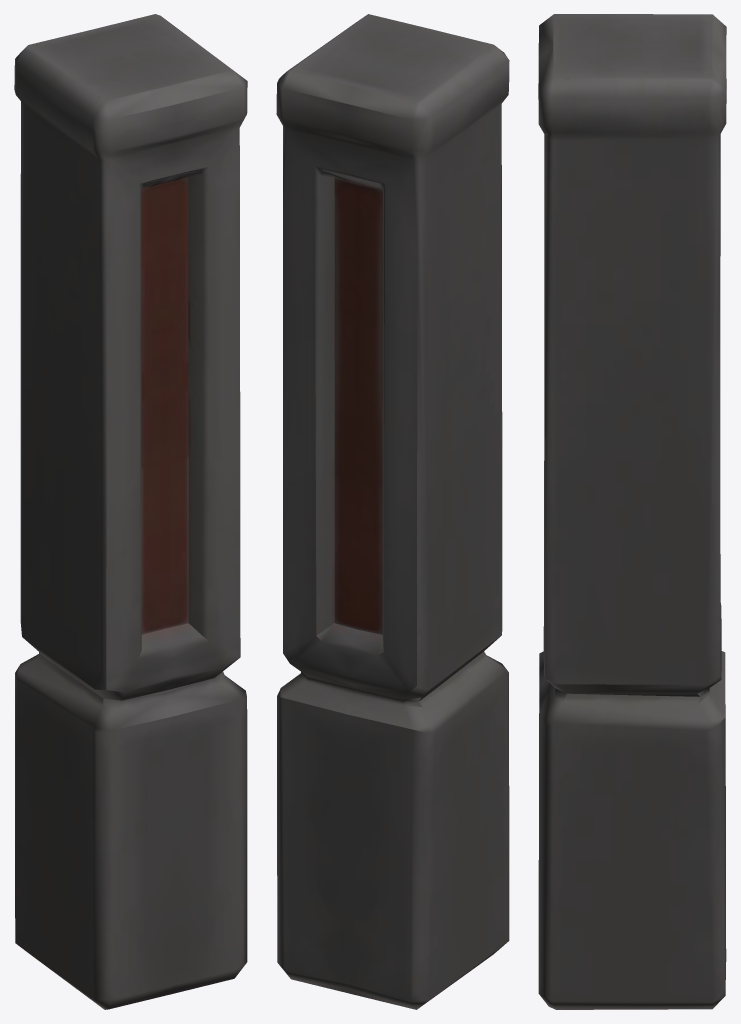
Rendered from railing_post.glb.
3 views of the same model, side by side, from view 1: azimuth 30°, elevation 25°; view 2: azimuth 150°, elevation 25°; view 3: azimuth 270°, elevation 25° (orthographic). The views are drawn at different scales.
Visible parts, largest first — view 1: body; view 2: body; view 3: body.
Boxes of the visible parts, x1,y1,x2,y2 form: body: (14,14,247,1009); body: (276,14,509,1009); body: (538,14,726,1009).
Bounding box in the file's own units: 0.21 × 1.17 × 0.2138.
1 material, 1 textured.
